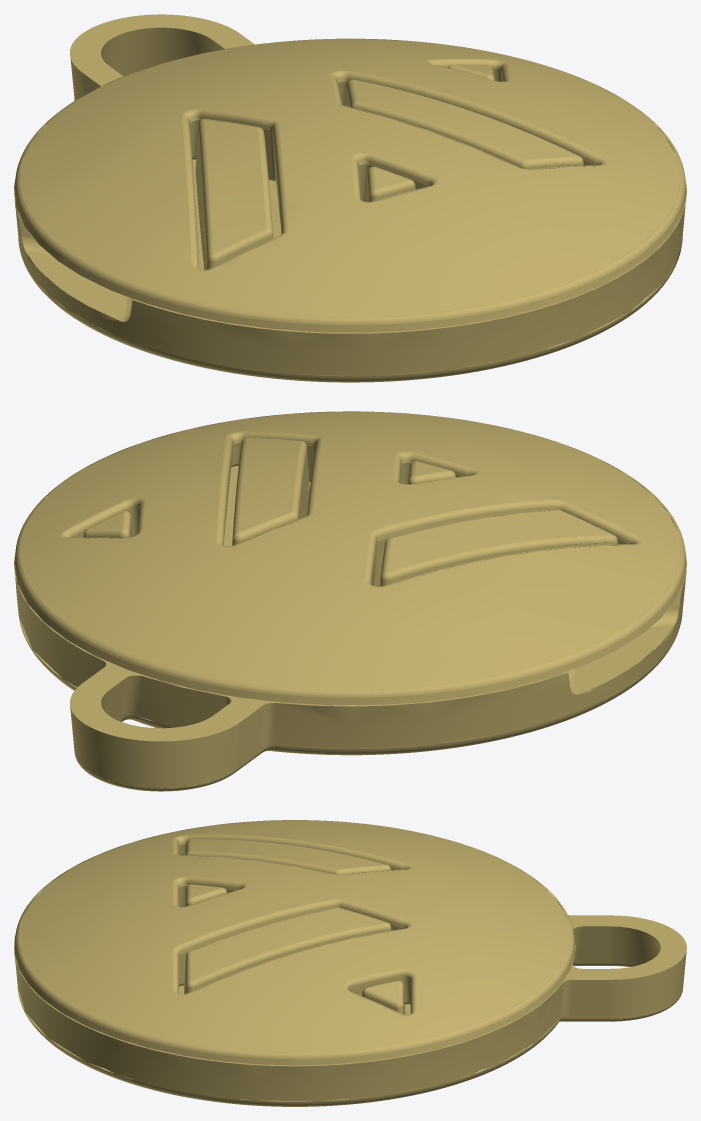
3 renders of one model, top to bottom at view 1: azimuth 30°, elevation 25°; view 2: azimuth 150°, elevation 25°; view 3: azimuth 270°, elevation 25°, orthographic. The views are drawn at different scales.
Parts seen in each view (by area): view 1: AnyConv.com__pendente 1 prova; view 2: AnyConv.com__pendente 1 prova; view 3: AnyConv.com__pendente 1 prova.
Part boxes in pixels (box(x1,y1,x2,y2)): AnyConv.com__pendente 1 prova: box(14, 14, 686, 382); AnyConv.com__pendente 1 prova: box(14, 411, 686, 791); AnyConv.com__pendente 1 prova: box(14, 820, 686, 1106).
Bounding box in the file's own units: 28 × 5.65 × 33.55.
